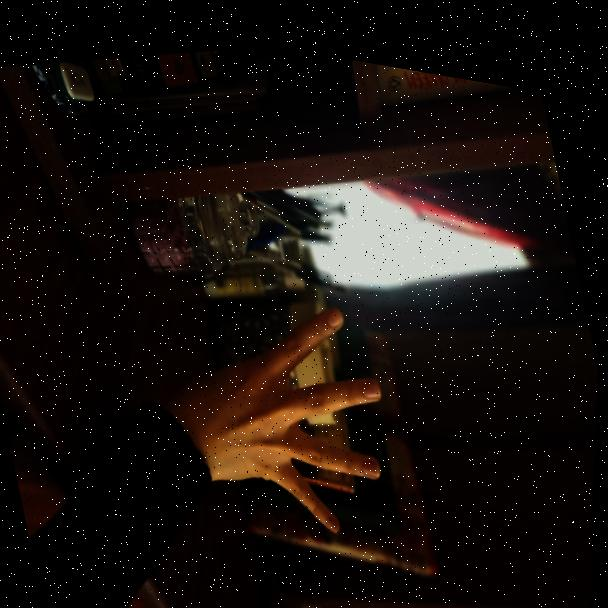four: (138, 237, 442, 590)
